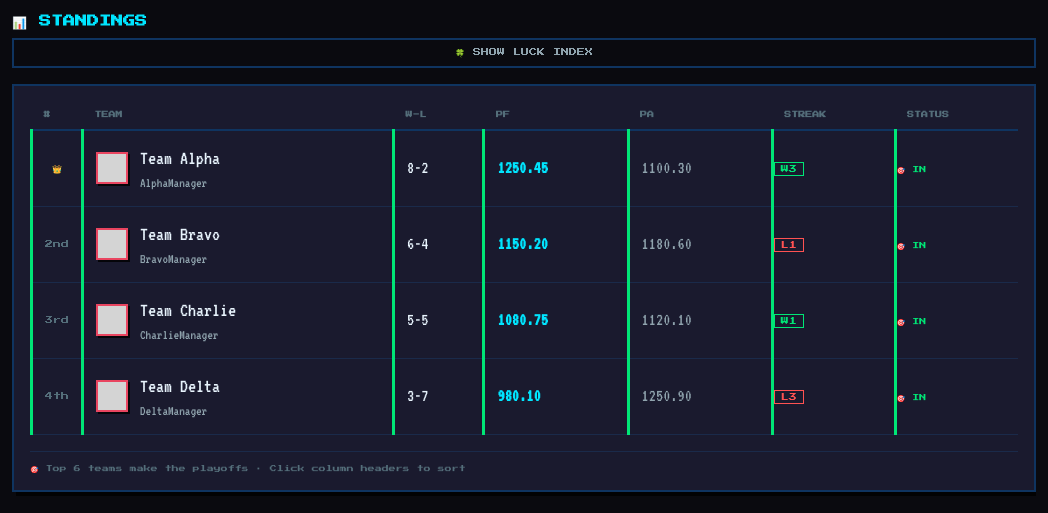
Scenario: StandingsPage (integration) › clicking SHOW LUCK INDEX toggle reveals LUCK column
Click the button "🍀 SHOW LUCK INDEX" at (524, 53), box [12,38,1036,68]
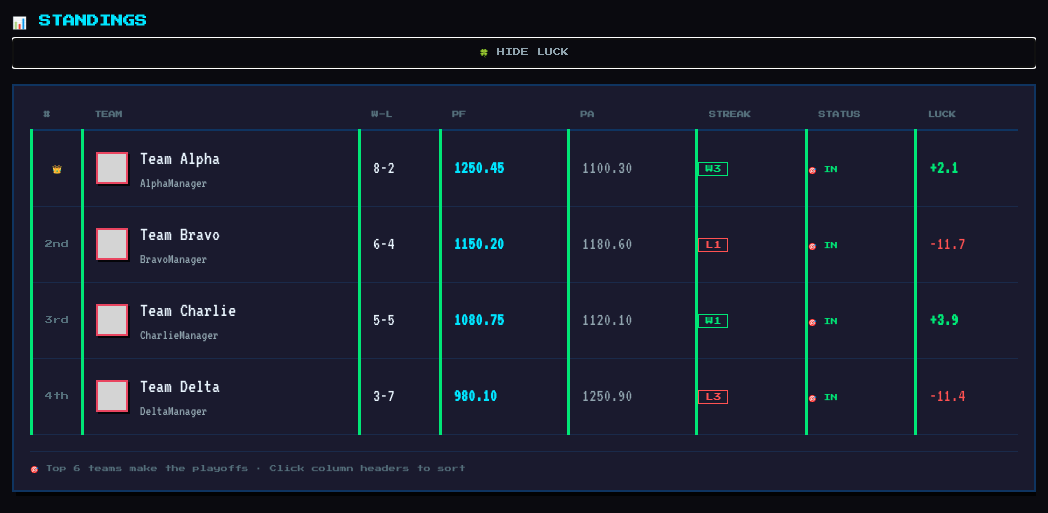
Expected: the column heading "LUCK" is shown, [916,102,1018,130]
Expected: the button "🍀 HIDE LUCK" is shown, [12,38,1036,68]
